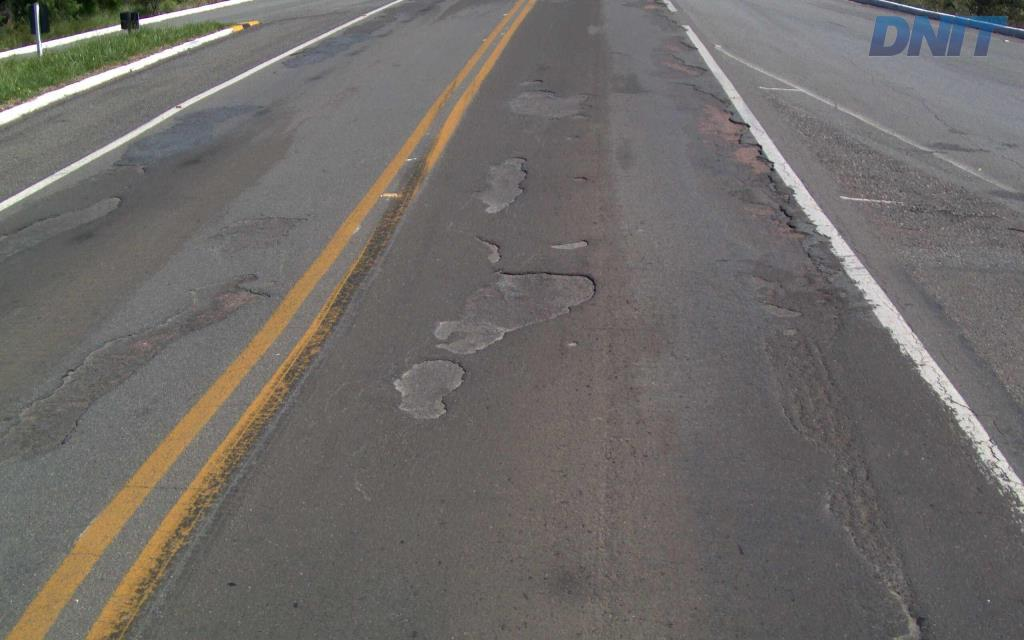pothole: (392, 263, 600, 421), (501, 77, 596, 123), (465, 154, 534, 216), (689, 84, 753, 143), (763, 204, 809, 239), (734, 142, 775, 178), (470, 233, 505, 265), (537, 234, 591, 250), (568, 173, 591, 185)
